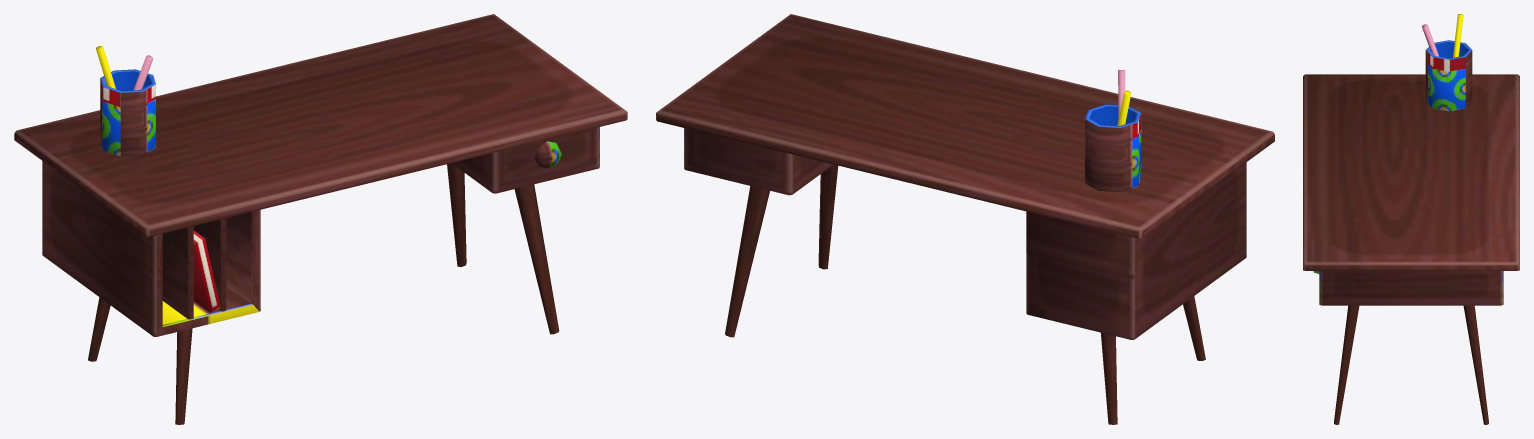
Rendered from int_grf_desk.dae.
The picture shows the model from 3 angles, left to right: view 1: azimuth 30°, elevation 25°; view 2: azimuth 150°, elevation 25°; view 3: azimuth 270°, elevation 25°; orthographic projection. The views are drawn at different scales.
Parts seen in each view (by area): view 1: int_grf_desk; view 2: int_grf_desk; view 3: int_grf_desk.
Part boxes in pixels (x1=…): int_grf_desk: x1=14, y1=14, x2=627, y2=424; int_grf_desk: x1=656, y1=14, x2=1274, y2=424; int_grf_desk: x1=1303, y1=14, x2=1519, y2=424.
Size of the model in its own units: 54 by 34.55 by 26.
2 materials, 2 textured.
